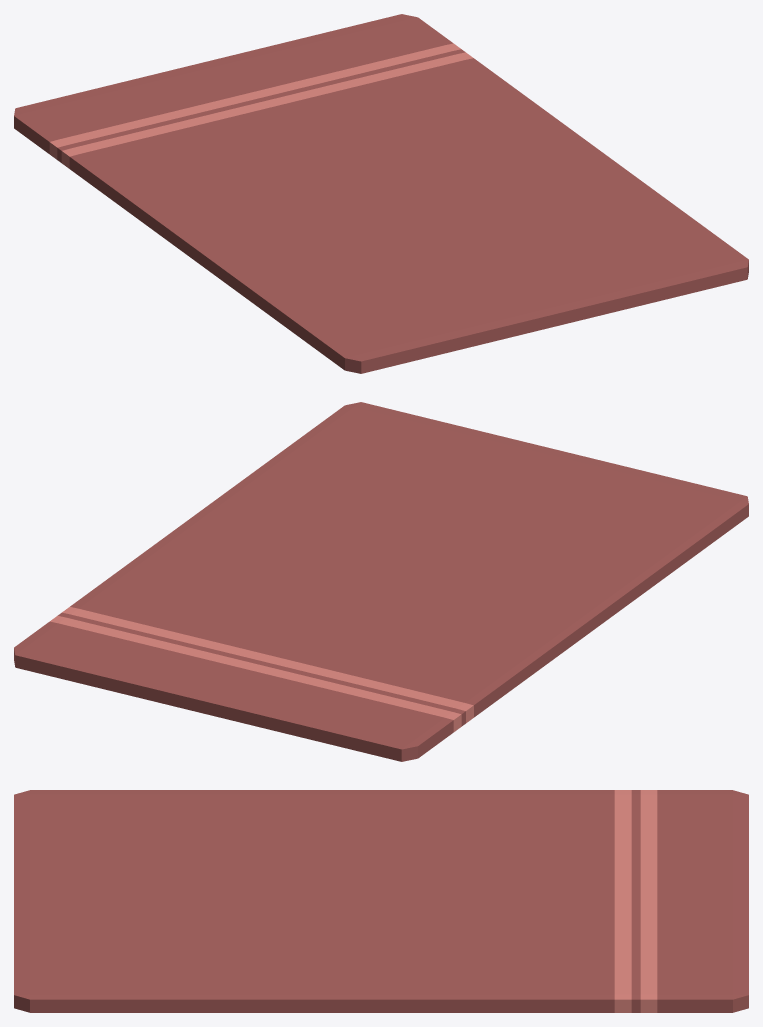
Rendered from Bathroom_Rug2.fbx.
3 renders of one model, top to bottom at view 1: azimuth 30°, elevation 25°; view 2: azimuth 150°, elevation 25°; view 3: azimuth 270°, elevation 25°, orthographic. The views are drawn at different scales.
Parts seen in each view (by area): view 1: Bathroom_Rug2.001, Bathroom_Rug2; view 2: Bathroom_Rug2.001, Bathroom_Rug2; view 3: Bathroom_Rug2.001, Bathroom_Rug2.
Part boxes in pixels (bbox=[...]): Bathroom_Rug2.001: bbox=[14, 14, 748, 373]; Bathroom_Rug2: bbox=[49, 43, 473, 168]; Bathroom_Rug2.001: bbox=[14, 402, 748, 761]; Bathroom_Rug2: bbox=[50, 607, 473, 731]; Bathroom_Rug2.001: bbox=[14, 790, 748, 1012]; Bathroom_Rug2: bbox=[614, 790, 657, 1012].
Size of the model in its own units: 82.03 by 2.52 by 122.
